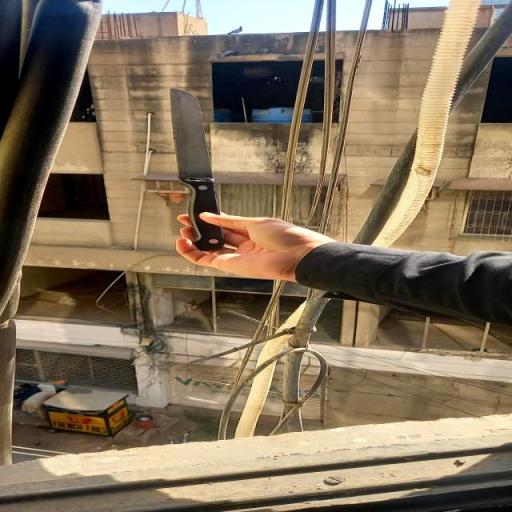knife: (171, 88, 226, 251)
